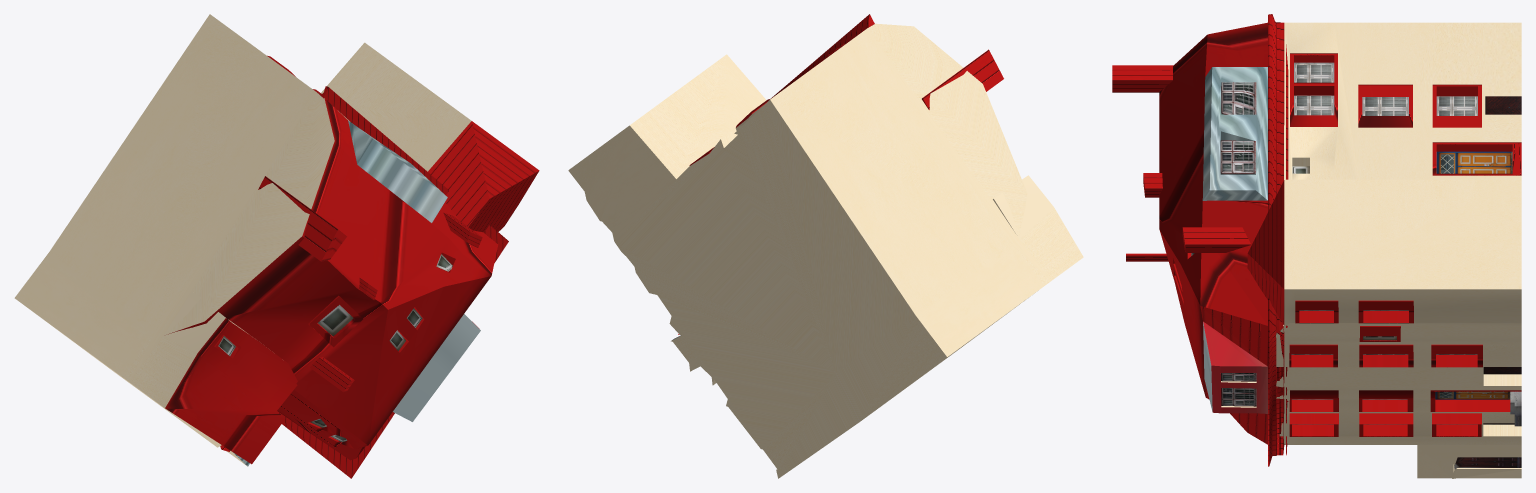
File: 192_Sauna_3-origo.obj
3 renders of one model, left to right at view 1: azimuth 30°, elevation 25°; view 2: azimuth 150°, elevation 25°; view 3: azimuth 270°, elevation 25°, orthographic. The views are drawn at different scales.
Parts seen in each view (by area): view 1: Box01; view 2: Box01; view 3: Box01.
Part boxes in pixels (x1,y1,x2,y2): Box01: [14, 14, 539, 478]; Box01: [568, 14, 1083, 478]; Box01: [1112, 14, 1521, 478].
Size of the model in its own units: 23.12 by 22.5 by 17.71.
